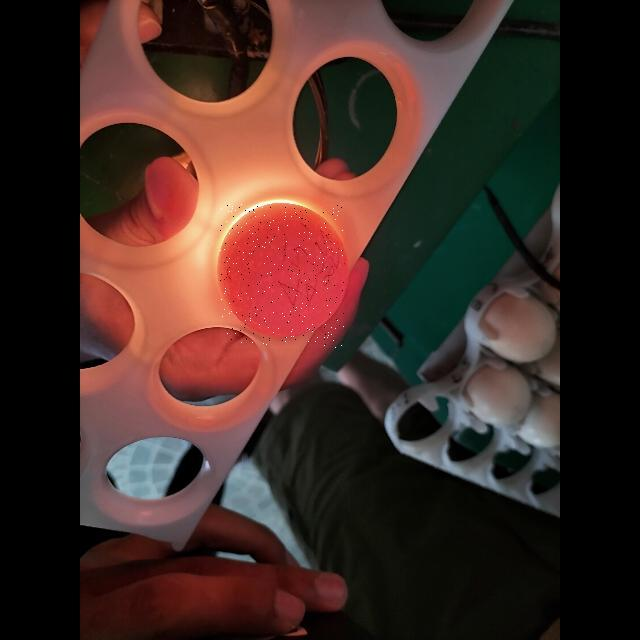Infertile: (220, 204, 344, 348)
